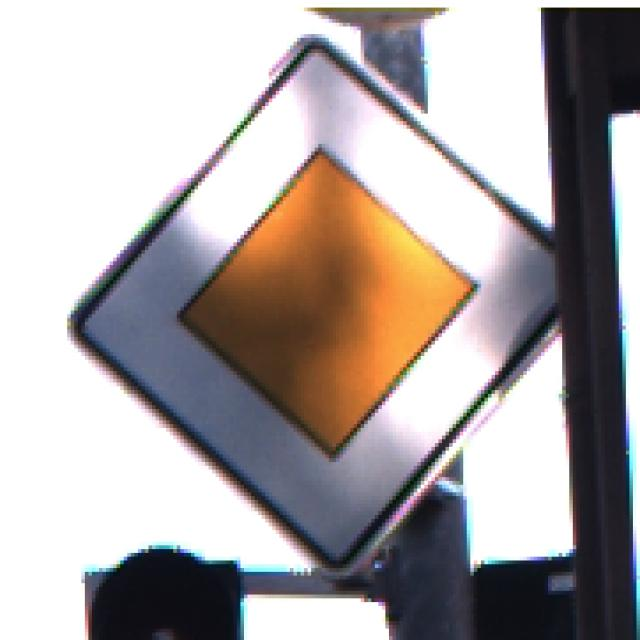Main Road: (58, 31, 588, 584)
